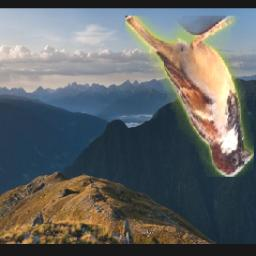Sparrow: (125, 17, 254, 178)
